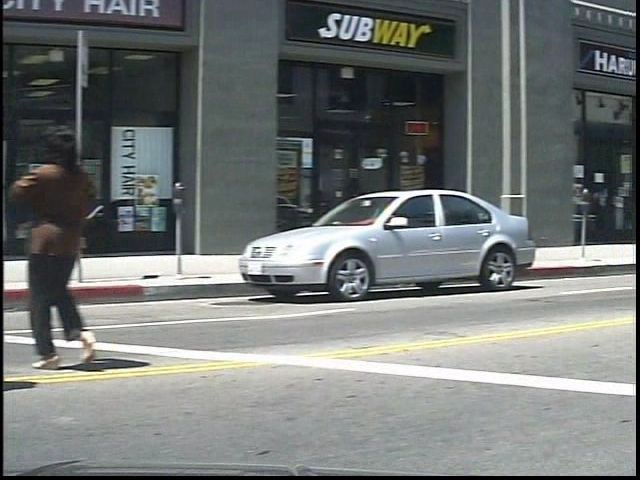person: (24, 119, 125, 368)
